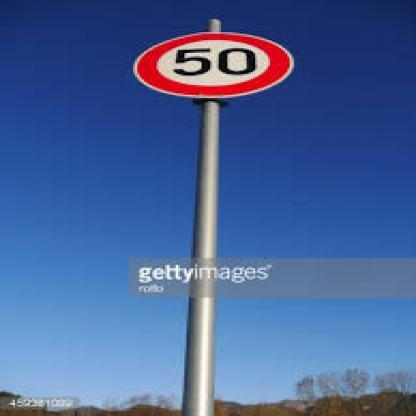Speed Limit 50: (134, 34, 293, 96)
